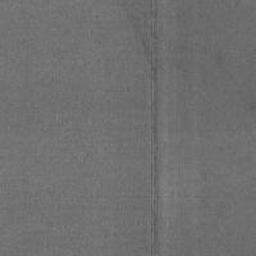Welding line: (146, 0, 159, 256)
